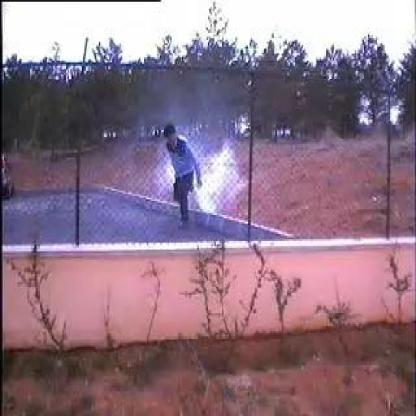-: (193, 146, 232, 218)
